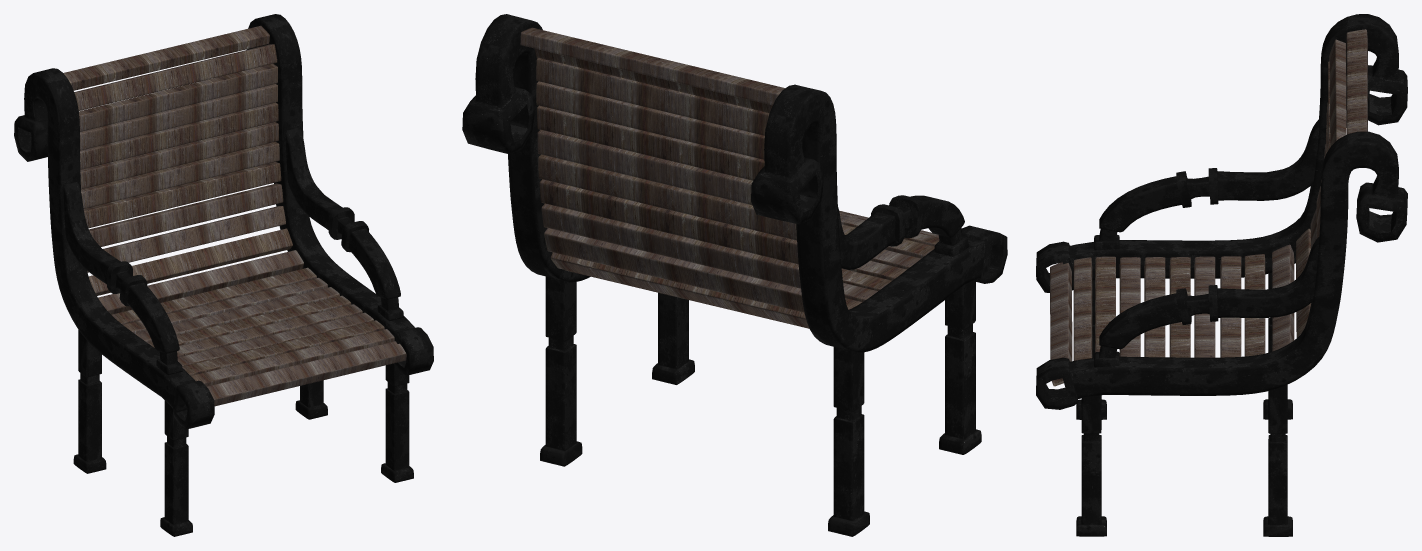
Rendered from fbxChair.fbx.
3 views of the same model, side by side, from view 1: azimuth 30°, elevation 25°; view 2: azimuth 150°, elevation 25°; view 3: azimuth 270°, elevation 25° (orthographic). The views are drawn at different scales.
Visible parts, largest first — view 1: chair; view 2: chair; view 3: chair.
Part boxes in pixels (x1,y1,x2,y2): chair: (14, 14, 433, 536); chair: (462, 14, 1007, 536); chair: (1036, 14, 1407, 536).
Bounding box in the file's own units: 4.69 × 6.37 × 5.43.
2 materials, 2 textured.
